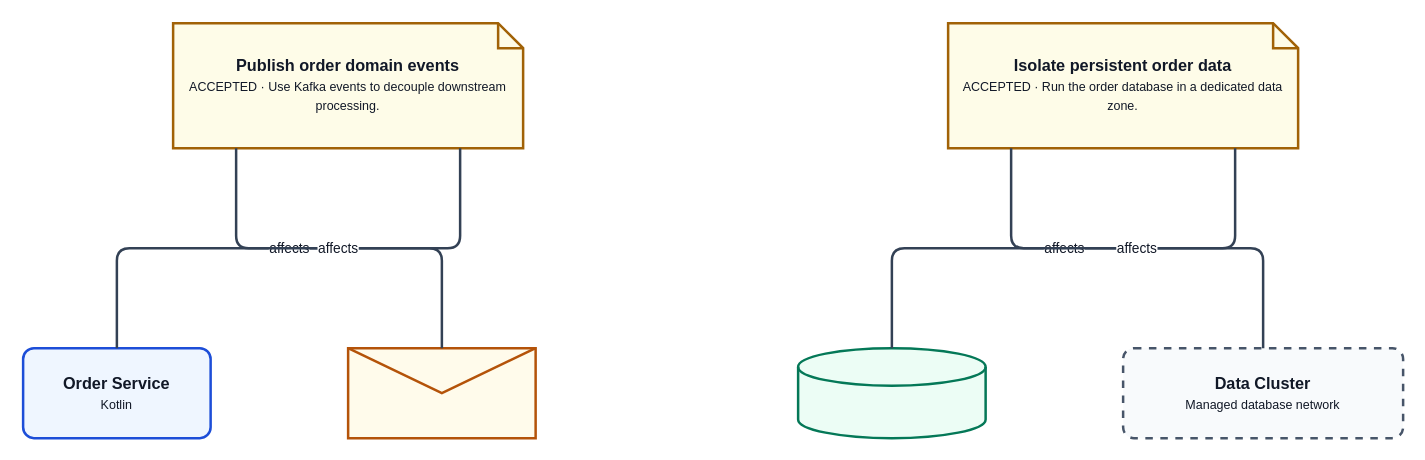
The diagram is 1425 pixels wide and 460 high, and some of its shapes have lost their labels. Each missing label, with the box of its shape:
Order Events Kafka: (346, 346, 536, 439)
Orders DB PostgreSQL: (796, 346, 986, 439)
